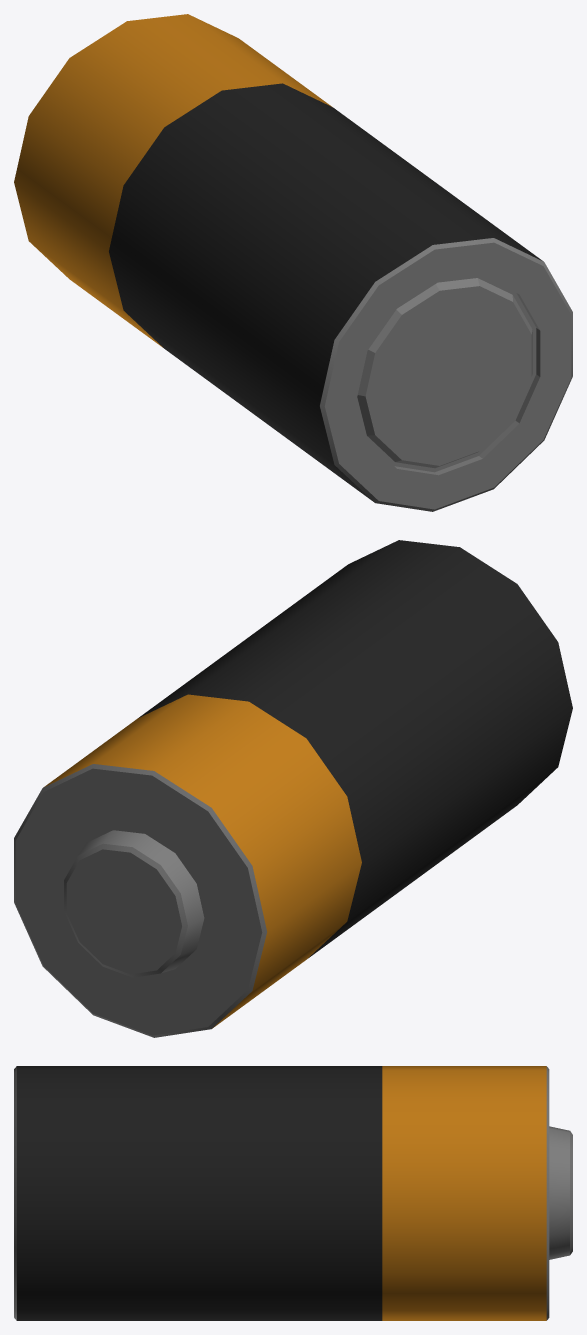
The model's file is Baterai.fbx.
3 views of the same model, one above another, from view 1: azimuth 30°, elevation 25°; view 2: azimuth 150°, elevation 25°; view 3: azimuth 270°, elevation 25° (orthographic). The views are drawn at different scales.
Parts seen in each view (by area): view 1: Cylinder005; view 2: Cylinder005; view 3: Cylinder005.
Boxes of the visible parts, bbox=[...] form: Cylinder005: bbox=[14, 14, 572, 511]; Cylinder005: bbox=[14, 540, 572, 1037]; Cylinder005: bbox=[14, 1066, 572, 1320].
Size of the model in its own units: 18.6 by 18.73 by 41.04.
